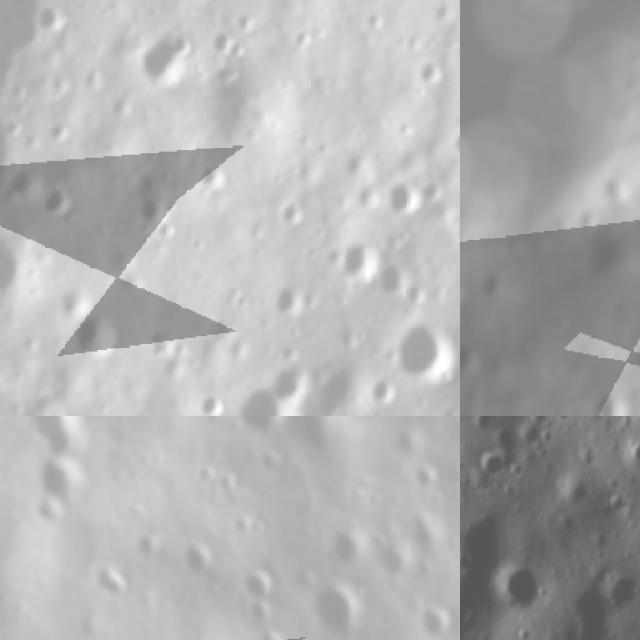crater: (384, 311, 460, 387), (129, 23, 204, 99), (0, 224, 42, 318), (229, 377, 318, 416), (70, 308, 129, 364), (495, 559, 544, 625), (36, 455, 86, 518), (313, 577, 362, 640), (331, 233, 382, 293), (572, 378, 640, 416), (261, 355, 312, 402), (54, 272, 96, 328), (36, 179, 88, 224), (29, 416, 86, 456), (88, 552, 130, 606), (136, 189, 178, 234), (379, 175, 420, 221), (334, 522, 372, 568), (174, 536, 212, 582), (31, 2, 73, 40), (234, 566, 282, 599), (416, 599, 453, 640), (196, 157, 234, 195), (0, 165, 39, 202), (460, 328, 490, 376), (42, 116, 79, 150), (205, 62, 242, 96), (277, 192, 308, 231), (0, 108, 31, 140), (416, 55, 446, 88), (236, 416, 285, 436), (618, 437, 640, 477), (428, 0, 454, 29), (193, 394, 227, 416), (223, 36, 250, 62), (460, 264, 475, 310), (292, 26, 316, 54), (363, 11, 387, 37), (235, 9, 256, 33), (0, 361, 13, 398)
